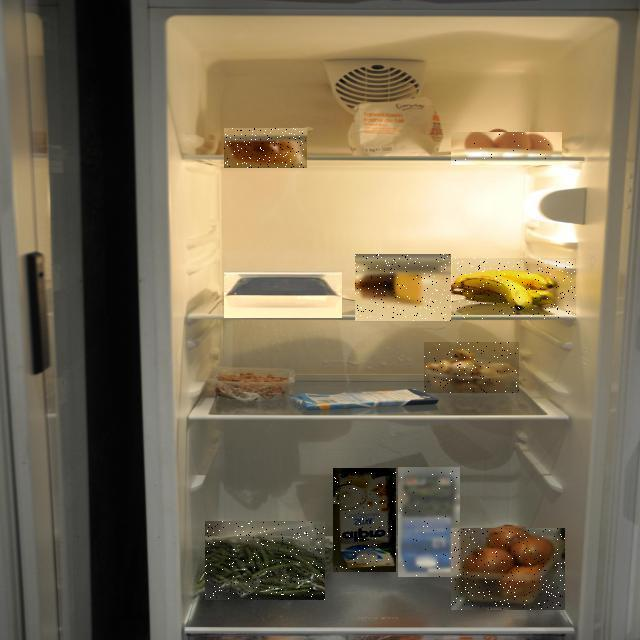Banana: (452, 258, 576, 319)
Beans: (205, 521, 325, 600)
Bread: (224, 128, 307, 168)
Cheese: (355, 254, 451, 321)
Eggs: (451, 132, 562, 165)
Meat: (224, 271, 342, 318)
Milk: (398, 467, 460, 577), (333, 468, 396, 572)
Mushroom: (424, 342, 519, 393)
Onion: (451, 528, 565, 610)
